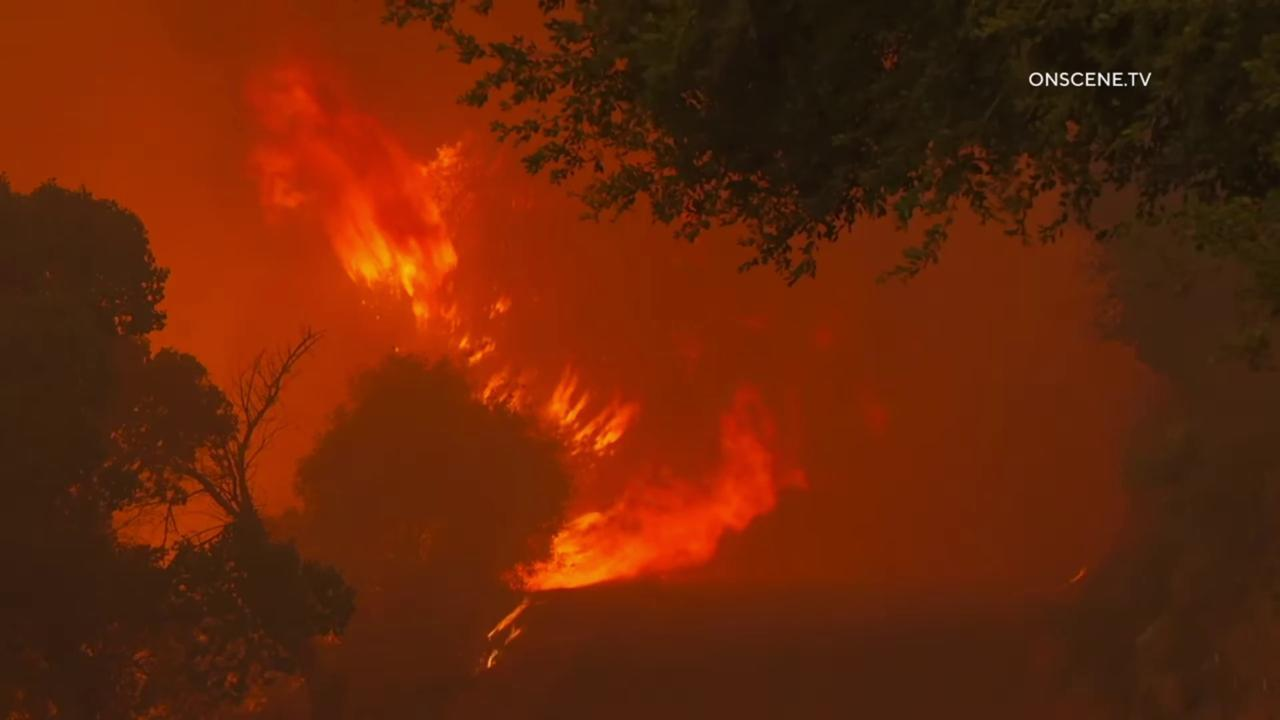fire: (239, 34, 815, 591), (474, 593, 537, 671)
smoke: (0, 0, 1280, 720)
